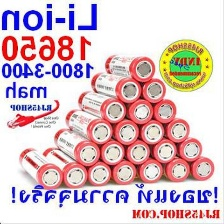battery: (16, 145, 63, 193), (41, 144, 89, 190), (100, 89, 156, 128), (112, 106, 166, 146), (139, 108, 192, 148), (86, 68, 143, 104), (63, 105, 114, 145), (101, 48, 159, 83), (53, 127, 102, 167), (94, 107, 141, 147), (67, 145, 111, 186), (93, 147, 138, 187), (160, 124, 205, 164), (132, 128, 178, 167), (126, 90, 178, 124), (74, 91, 129, 123), (147, 144, 192, 183), (103, 133, 150, 168), (84, 130, 125, 168), (115, 76, 168, 105), (125, 147, 165, 185), (173, 149, 215, 183)
